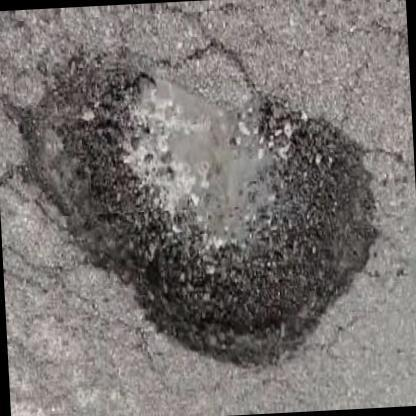pothole: (18, 35, 384, 372)
